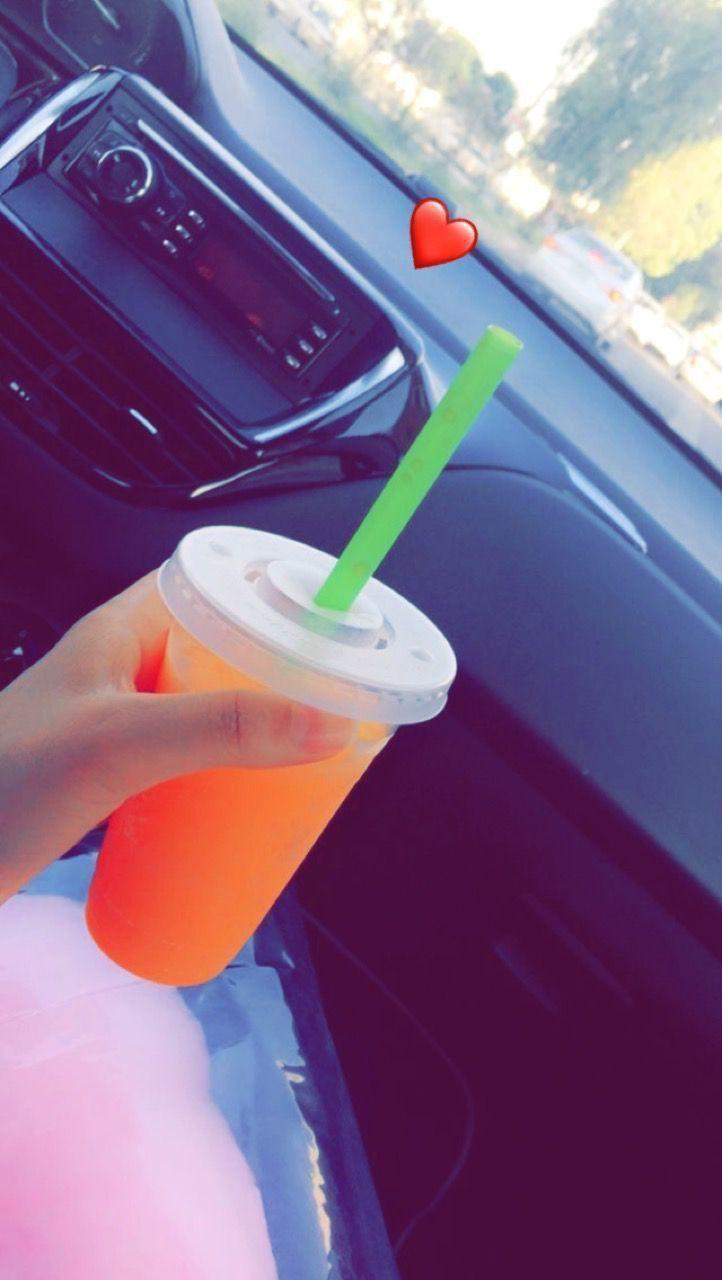cup-disposable: (84, 527, 460, 984)
